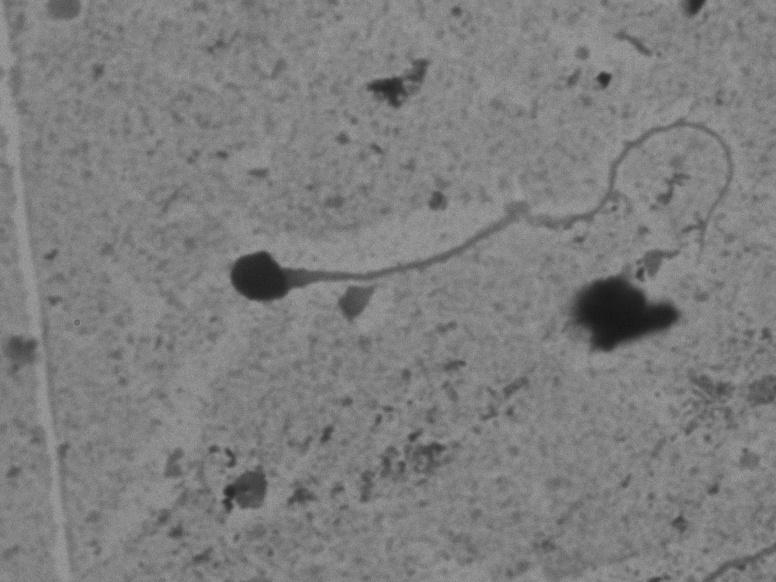Abnormal: (212, 93, 741, 308)
